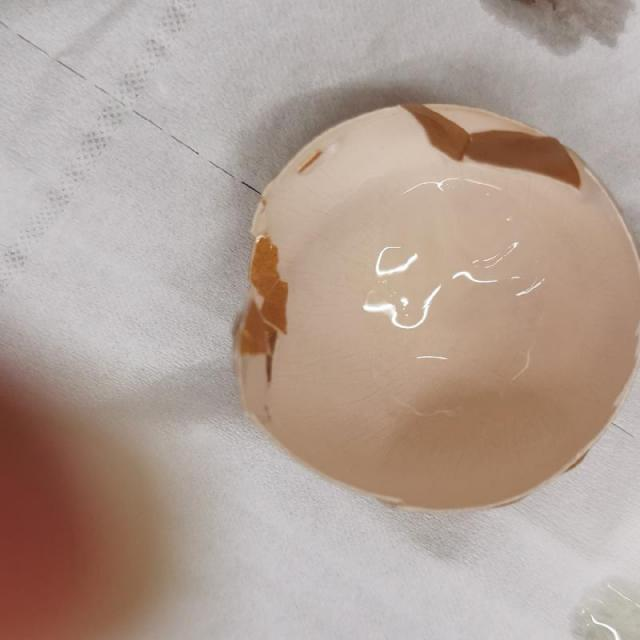egg shell: (224, 96, 636, 514)
